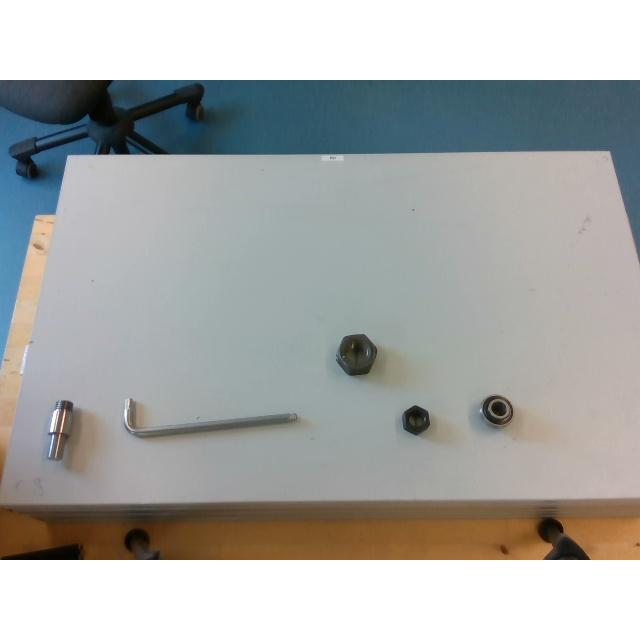AllenKey: (122, 398, 298, 436)
Axis2: (48, 400, 72, 460)
Bearing2: (482, 394, 514, 426)
M20: (402, 405, 430, 435)
M30: (336, 333, 376, 375)
